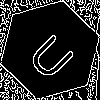U: (25, 25, 84, 84)
